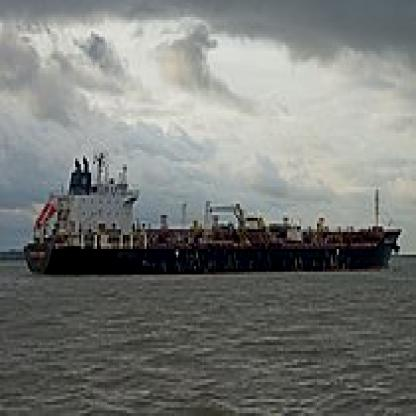Tanker: (29, 216, 396, 290)
